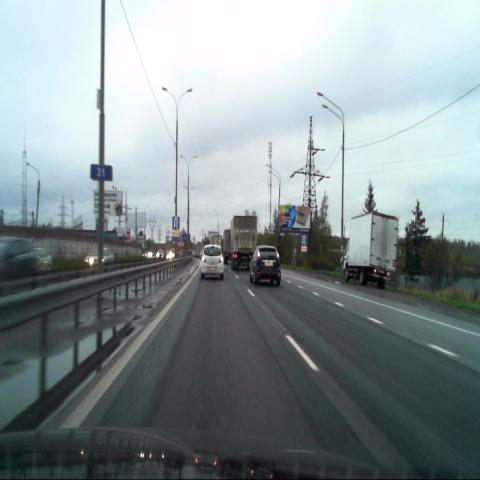6_3_1: (172, 216, 180, 229), (300, 234, 307, 245)
